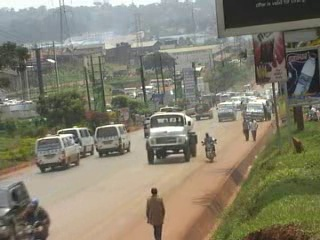Car: (0, 177, 42, 237), (193, 100, 213, 120), (141, 118, 154, 137)
Motorcycle: (16, 201, 54, 238), (201, 133, 220, 161)
